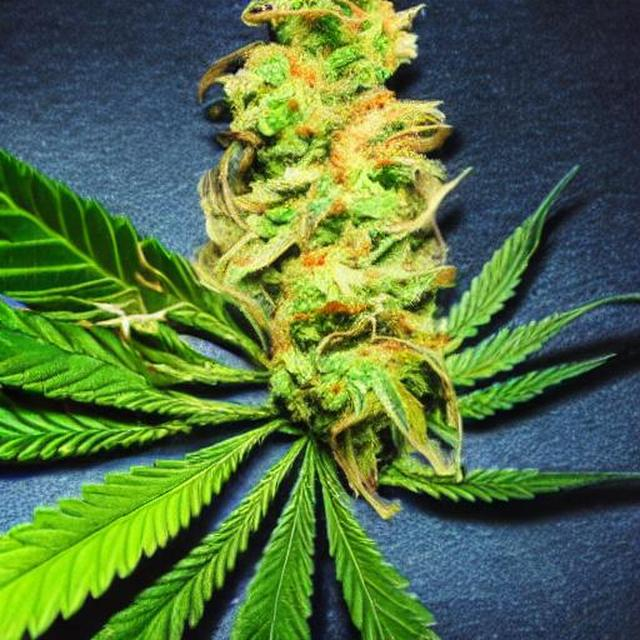Marijuana Joint: (1, 1, 583, 640)
